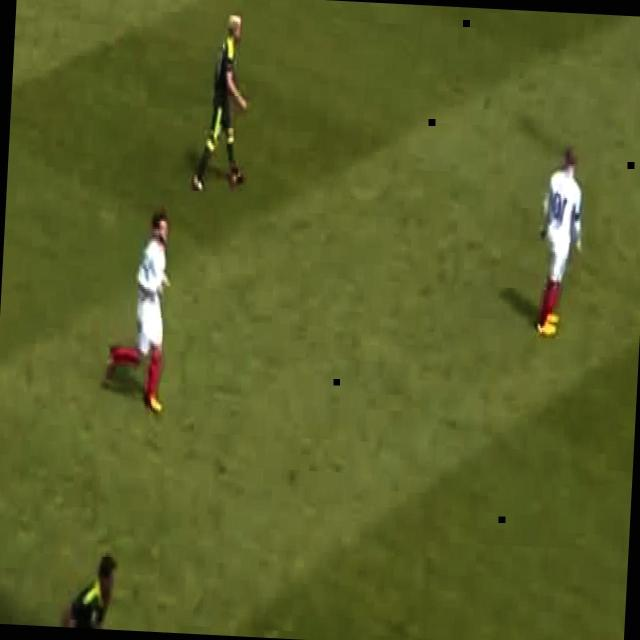player-white: (106, 213, 172, 413), (190, 13, 252, 195), (533, 144, 585, 339), (65, 550, 117, 630)
